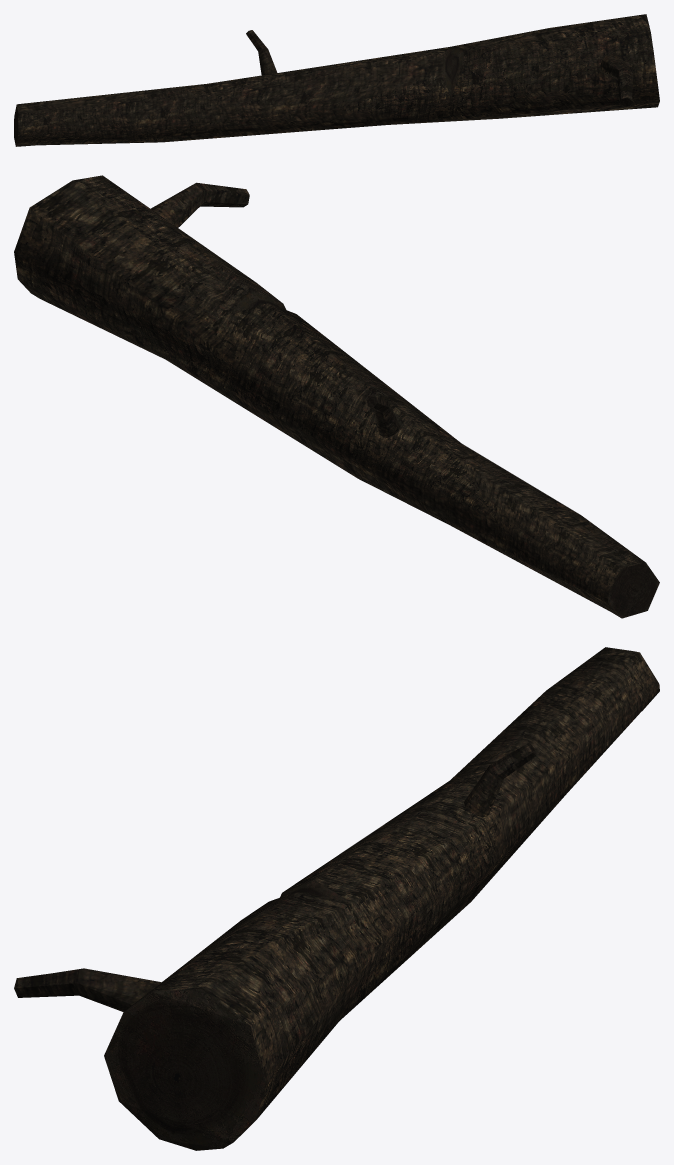
File: tree_log_1.fbx
3 views of the same model, one above another, from view 1: azimuth 30°, elevation 25°; view 2: azimuth 150°, elevation 25°; view 3: azimuth 270°, elevation 25° (orthographic). The views are drawn at different scales.
Visible parts, largest first — view 1: tree_log_1; view 2: tree_log_1; view 3: tree_log_1.
Part boxes in pixels (x1,y1,x2,y2): tree_log_1: (14, 14, 659, 146); tree_log_1: (14, 175, 659, 618); tree_log_1: (14, 647, 659, 1150).
Size of the model in its own units: 3.3 by 1.93 by 0.5574.
